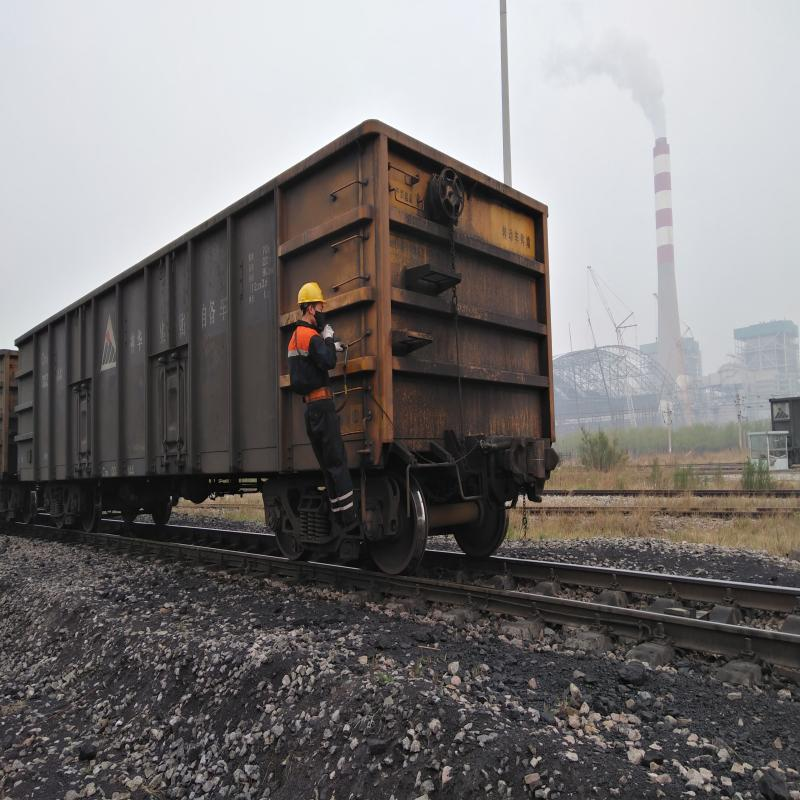train: (18, 323, 188, 520)
